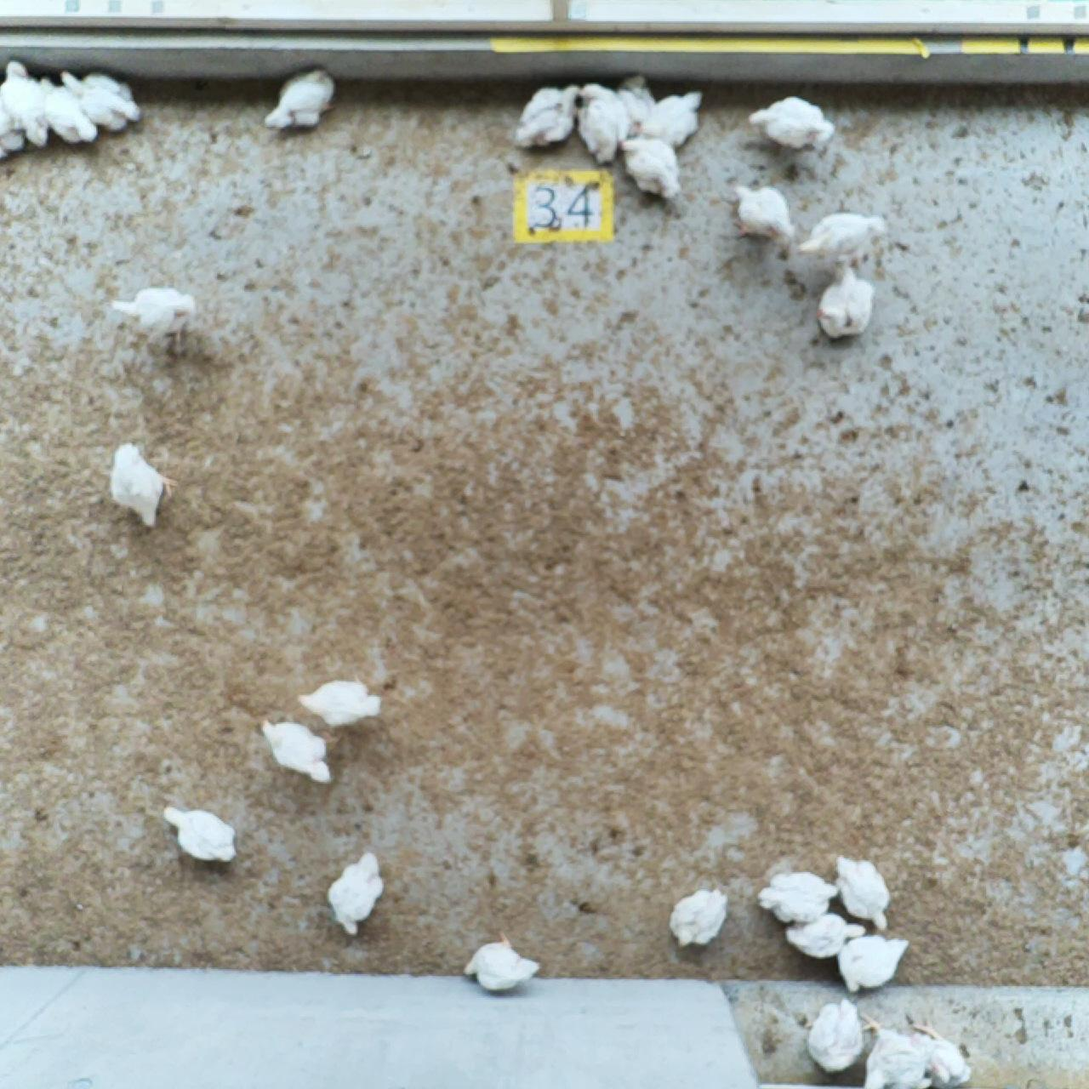chicken: (855, 1015, 931, 1089), (113, 448, 179, 527), (327, 852, 387, 938), (61, 67, 137, 132), (834, 855, 897, 932), (163, 803, 242, 864), (266, 721, 333, 791), (748, 98, 833, 152), (265, 71, 336, 134), (840, 933, 909, 995), (780, 917, 871, 964), (792, 214, 890, 257), (295, 681, 385, 727), (465, 937, 535, 995), (809, 996, 862, 1072), (4, 64, 46, 159), (764, 873, 836, 925), (576, 79, 620, 164), (516, 86, 576, 148), (667, 890, 730, 949), (117, 293, 197, 339), (731, 180, 792, 240), (815, 271, 869, 338), (37, 80, 94, 143), (920, 1025, 977, 1085), (622, 140, 679, 199), (647, 93, 698, 140), (619, 80, 655, 140)
